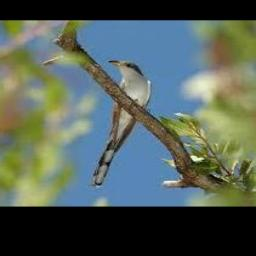Cuckoo: (92, 60, 152, 187)
